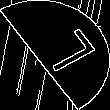L_SW: (19, 28, 91, 82)
